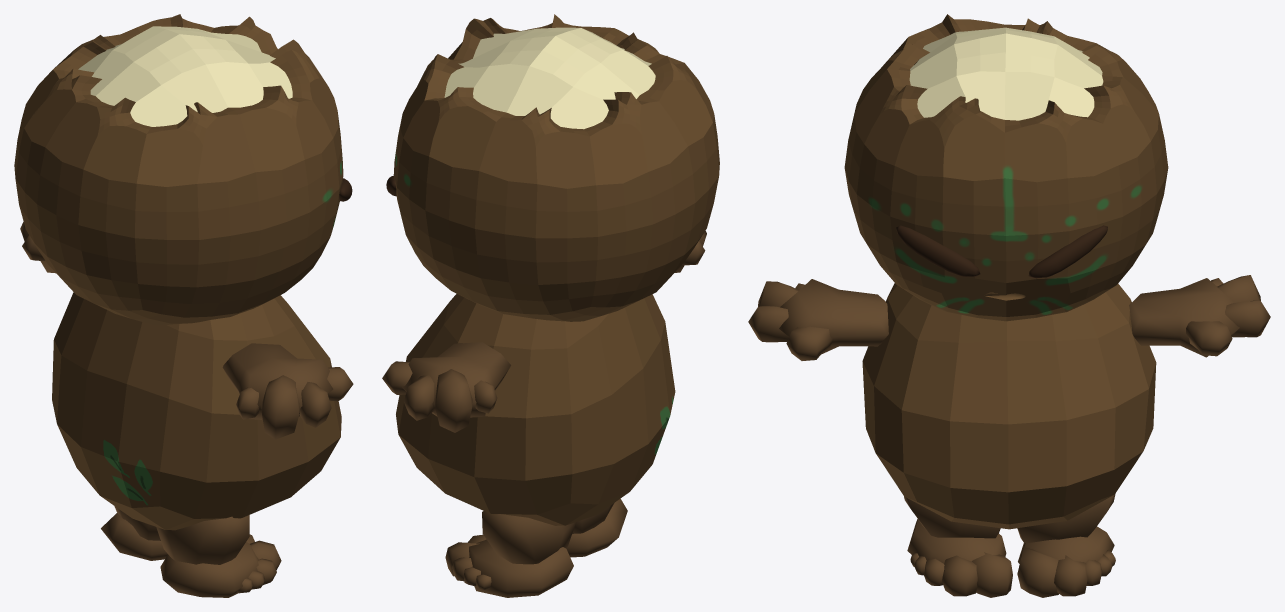
File: COCOfbx.fbx
3 renders of one model, left to right at view 1: azimuth 30°, elevation 25°; view 2: azimuth 150°, elevation 25°; view 3: azimuth 270°, elevation 25°, orthographic.
Visible parts, largest first — view 1: Cube.008, Cube.017, Cube.016, Cube.011, Cube.014, Cube.015, Cube.013; view 2: Cube.008, Cube.017, Cube.016, Cube.015, Cube.013, Cube.014; view 3: Cube.008, Cube.017, Cube.016, Cube.011, Cube.013, Cube.014, Cube.015, Cube.009, Cube.010.
Boxes of the visible parts, bbox=[...] form: Cube.008: bbox=[14, 14, 343, 325]; Cube.017: bbox=[52, 292, 341, 530]; Cube.016: bbox=[78, 26, 292, 126]; Cube.011: bbox=[222, 343, 353, 439]; Cube.014: bbox=[156, 515, 281, 597]; Cube.015: bbox=[101, 506, 167, 560]; Cube.013: bbox=[20, 222, 55, 273]; Cube.008: bbox=[393, 14, 719, 321]; Cube.017: bbox=[396, 293, 675, 525]; Cube.016: bbox=[444, 27, 655, 129]; Cube.015: bbox=[445, 511, 575, 597]; Cube.013: bbox=[382, 342, 510, 432]; Cube.014: bbox=[566, 498, 627, 557]; Cube.008: bbox=[844, 14, 1168, 321]; Cube.017: bbox=[862, 283, 1156, 529]; Cube.016: bbox=[909, 27, 1103, 120]; Cube.011: bbox=[748, 279, 888, 360]; Cube.013: bbox=[1129, 275, 1270, 357]; Cube.014: bbox=[904, 496, 1012, 597]; Cube.015: bbox=[1017, 493, 1115, 597]; Cube.009: bbox=[896, 225, 980, 276]; Cube.010: bbox=[1028, 225, 1107, 278].
Bounding box in the file's own units: 214 × 393 × 346.
Materials: 5 (2 with a texture image).
